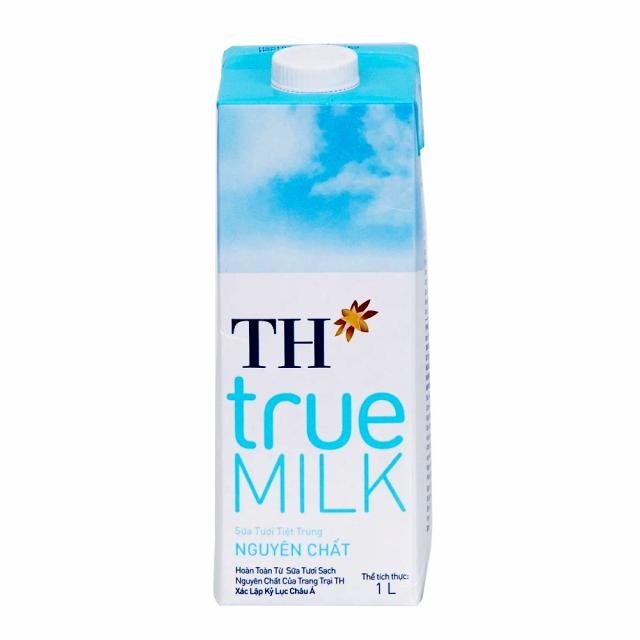non_white_jug: (203, 28, 440, 617)
